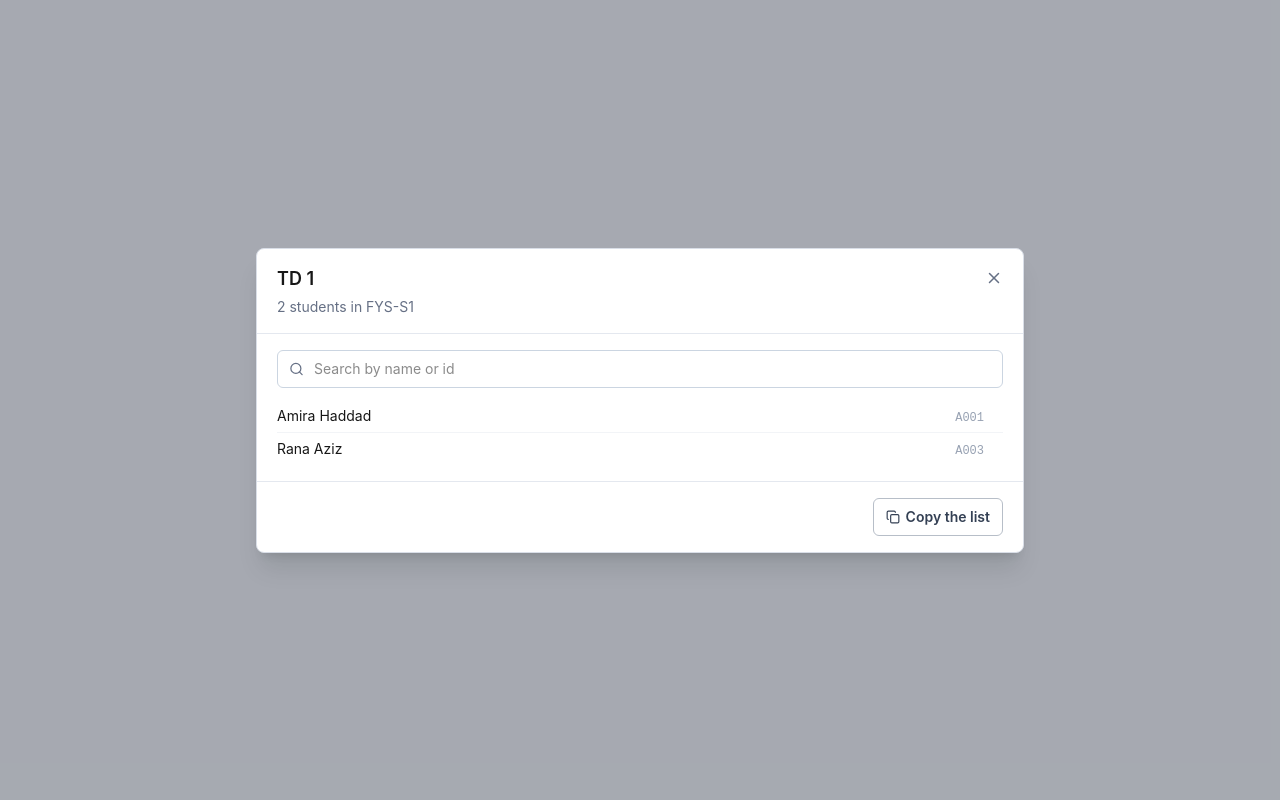
Test: looking one of them up › says so rather than showing an empty list when nothing matches
Expected: the list is shown, [277,400,1003,464]
Type "zzz" into the search field named "Search this group" at (640, 368), box [277,350,1003,388]
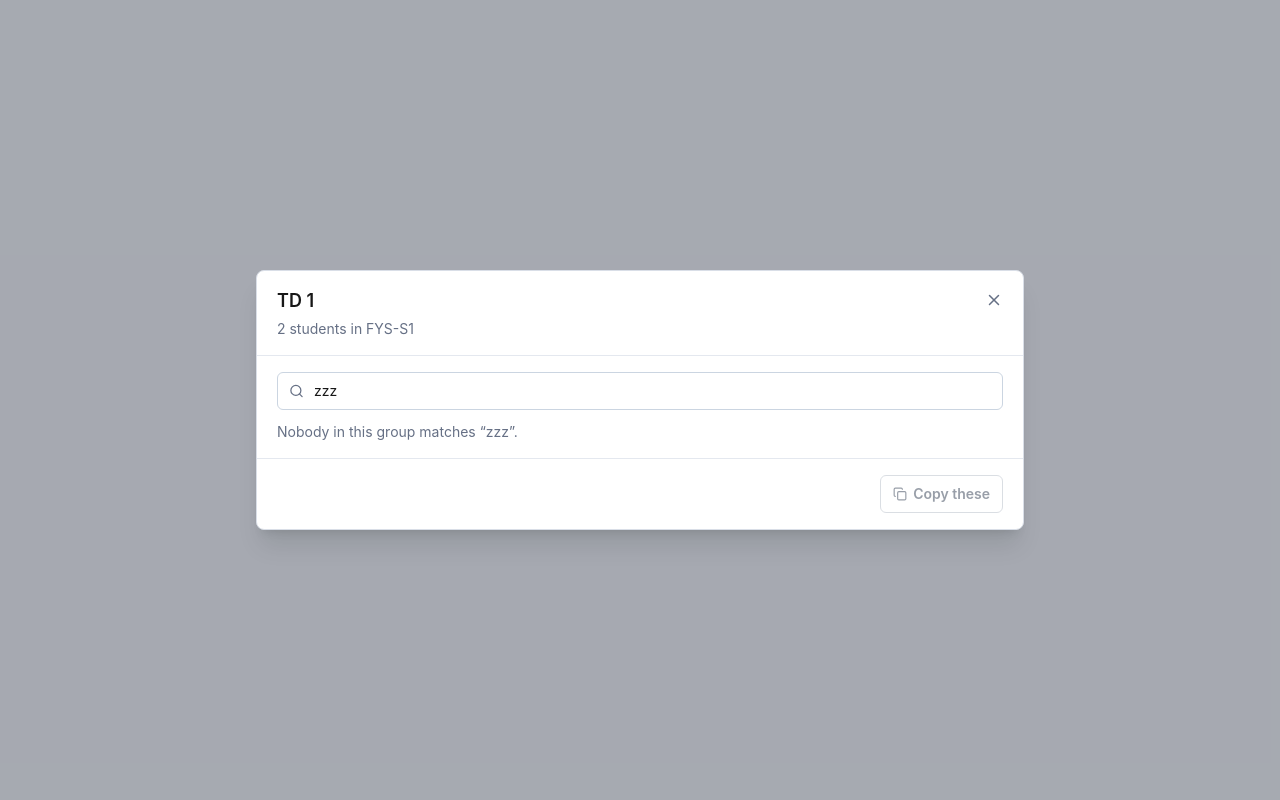
Result: the text "Nobody in this group matches “zzz”." is shown at [277,423,518,440]
